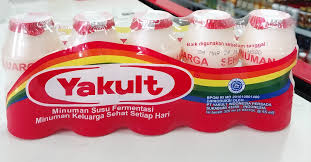Yakult (325ml): (0, 12, 297, 135)
